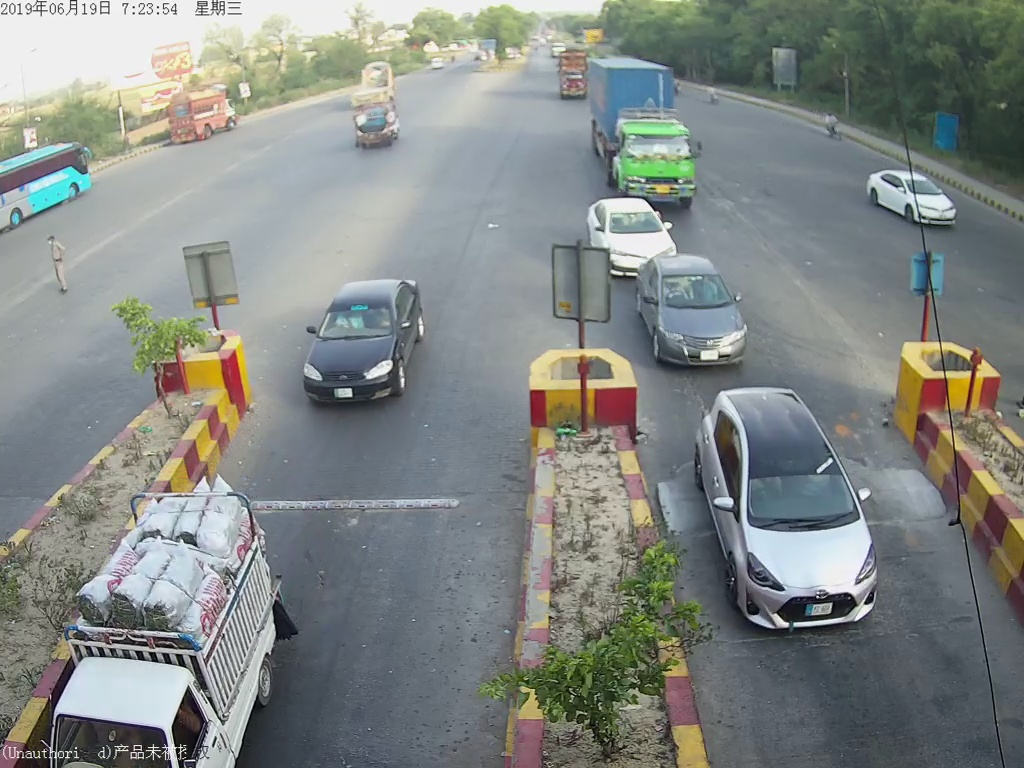Cat-1: (48, 479, 286, 768), (688, 407, 900, 638), (290, 271, 438, 422), (634, 255, 764, 371)
